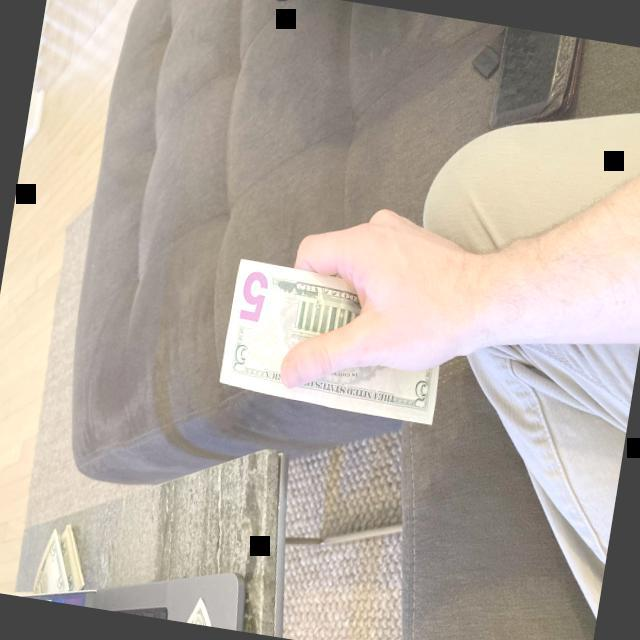five: (218, 255, 454, 426)
